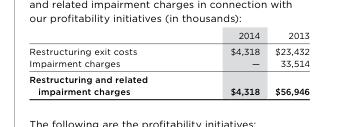table: (28, 29, 308, 96)
table column: (28, 29, 188, 96), (188, 29, 266, 96), (266, 29, 308, 96)
table column header: (28, 29, 308, 42)
table row: (28, 70, 308, 96), (28, 42, 308, 56), (28, 56, 308, 70), (28, 29, 308, 42)
